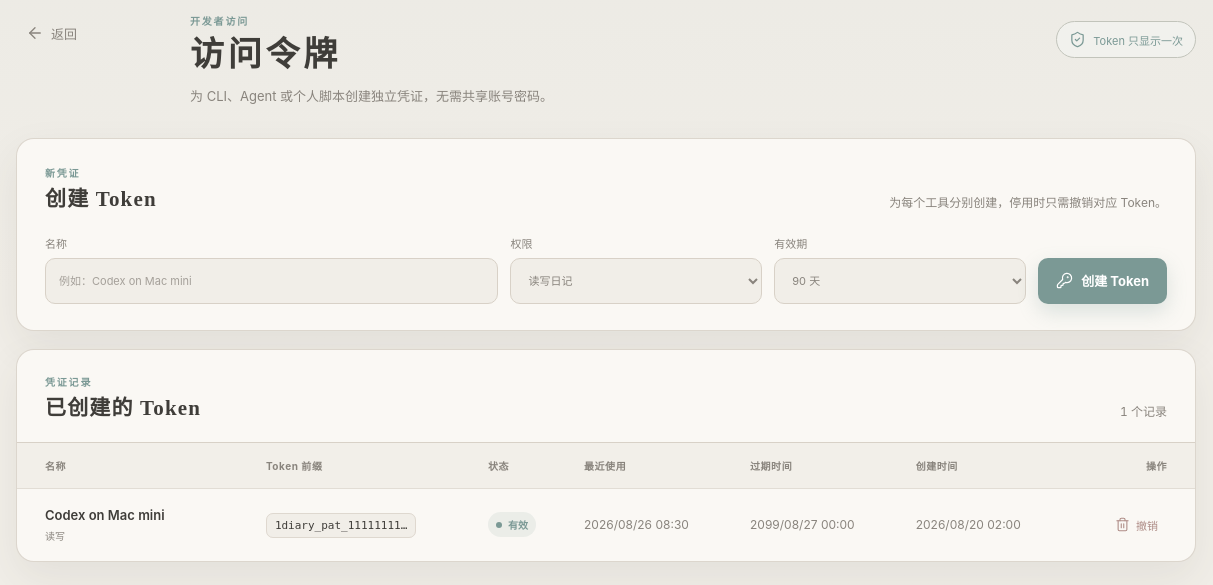
TokenPage › revokes an active token after confirmation
The width and height of the screenshot is (1213, 585).
Click the button with aria-label "撤销 Codex on Mac mini" at (1136, 525), box x1=1106 y1=510 x2=1167 y2=540
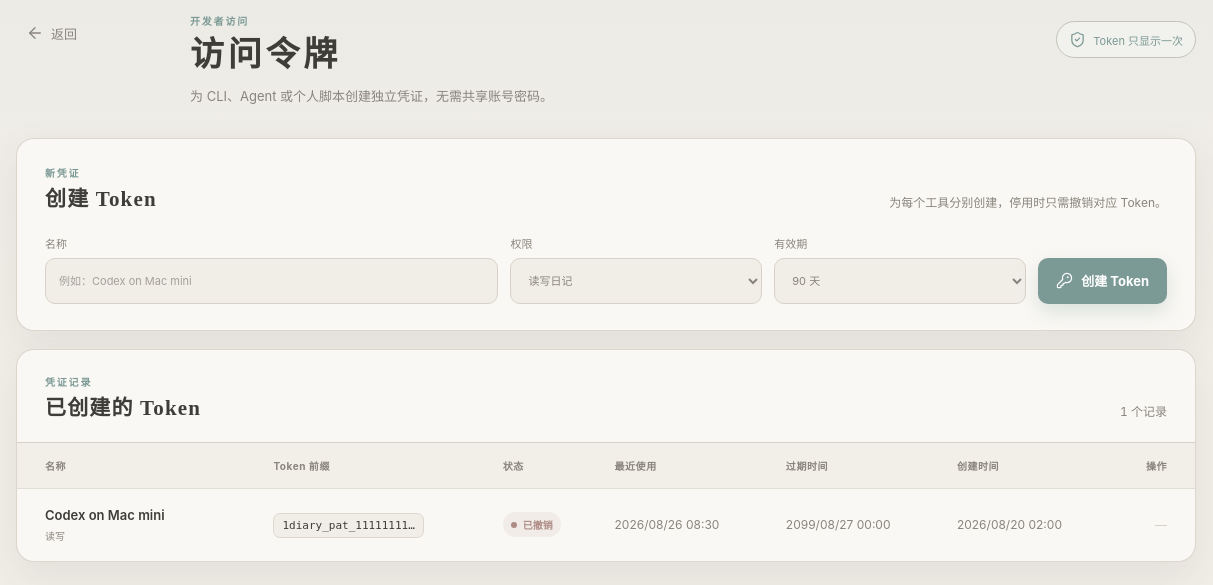
Result: the text "已撤销" is shown at x1=503 y1=512 x2=561 y2=537
